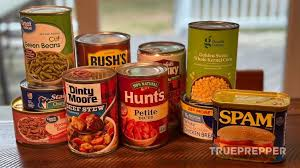can: (11, 4, 289, 163)
